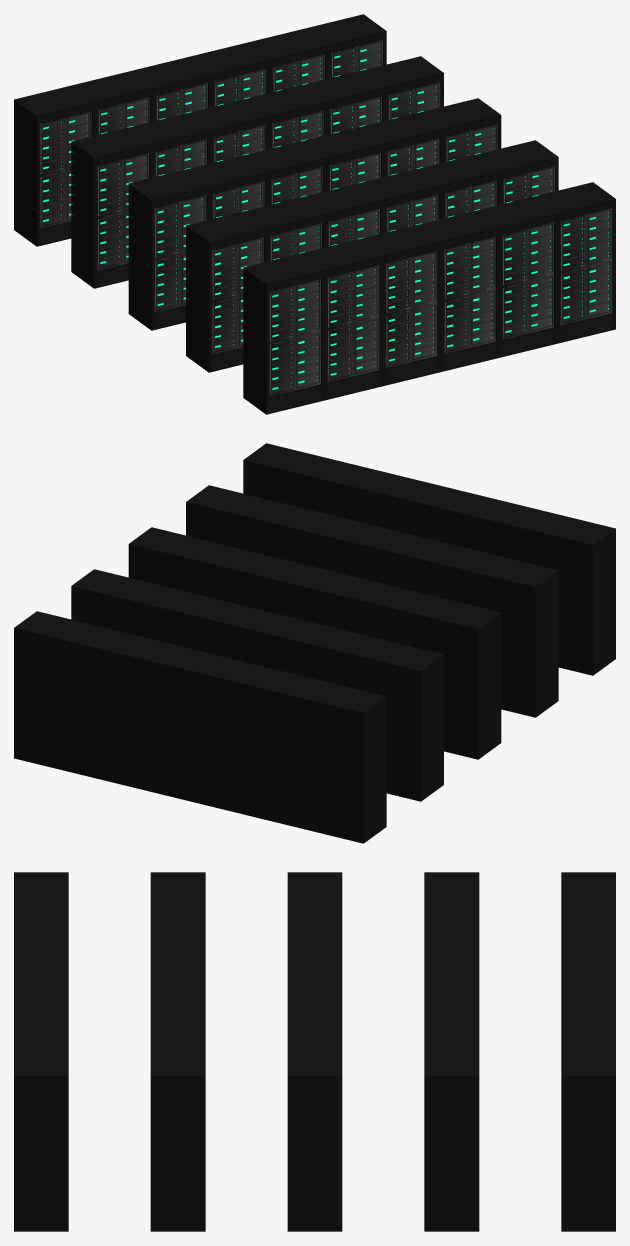
File: data_center_low-polyv2.glb
3 views of the same model, one above another, from view 1: azimuth 30°, elevation 25°; view 2: azimuth 150°, elevation 25°; view 3: azimuth 270°, elevation 25° (orthographic). The views are drawn at different scales.
Visible parts, largest first — view 1: Cluster; view 2: Cluster; view 3: Cluster.
Boxes of the visible parts, bbox=[...] form: Cluster: bbox=[14, 14, 615, 414]; Cluster: bbox=[14, 443, 615, 843]; Cluster: bbox=[14, 872, 615, 1231].
Size of the model in its own units: 31.68 by 11.3 by 39.6.
4 materials, 1 textured.
